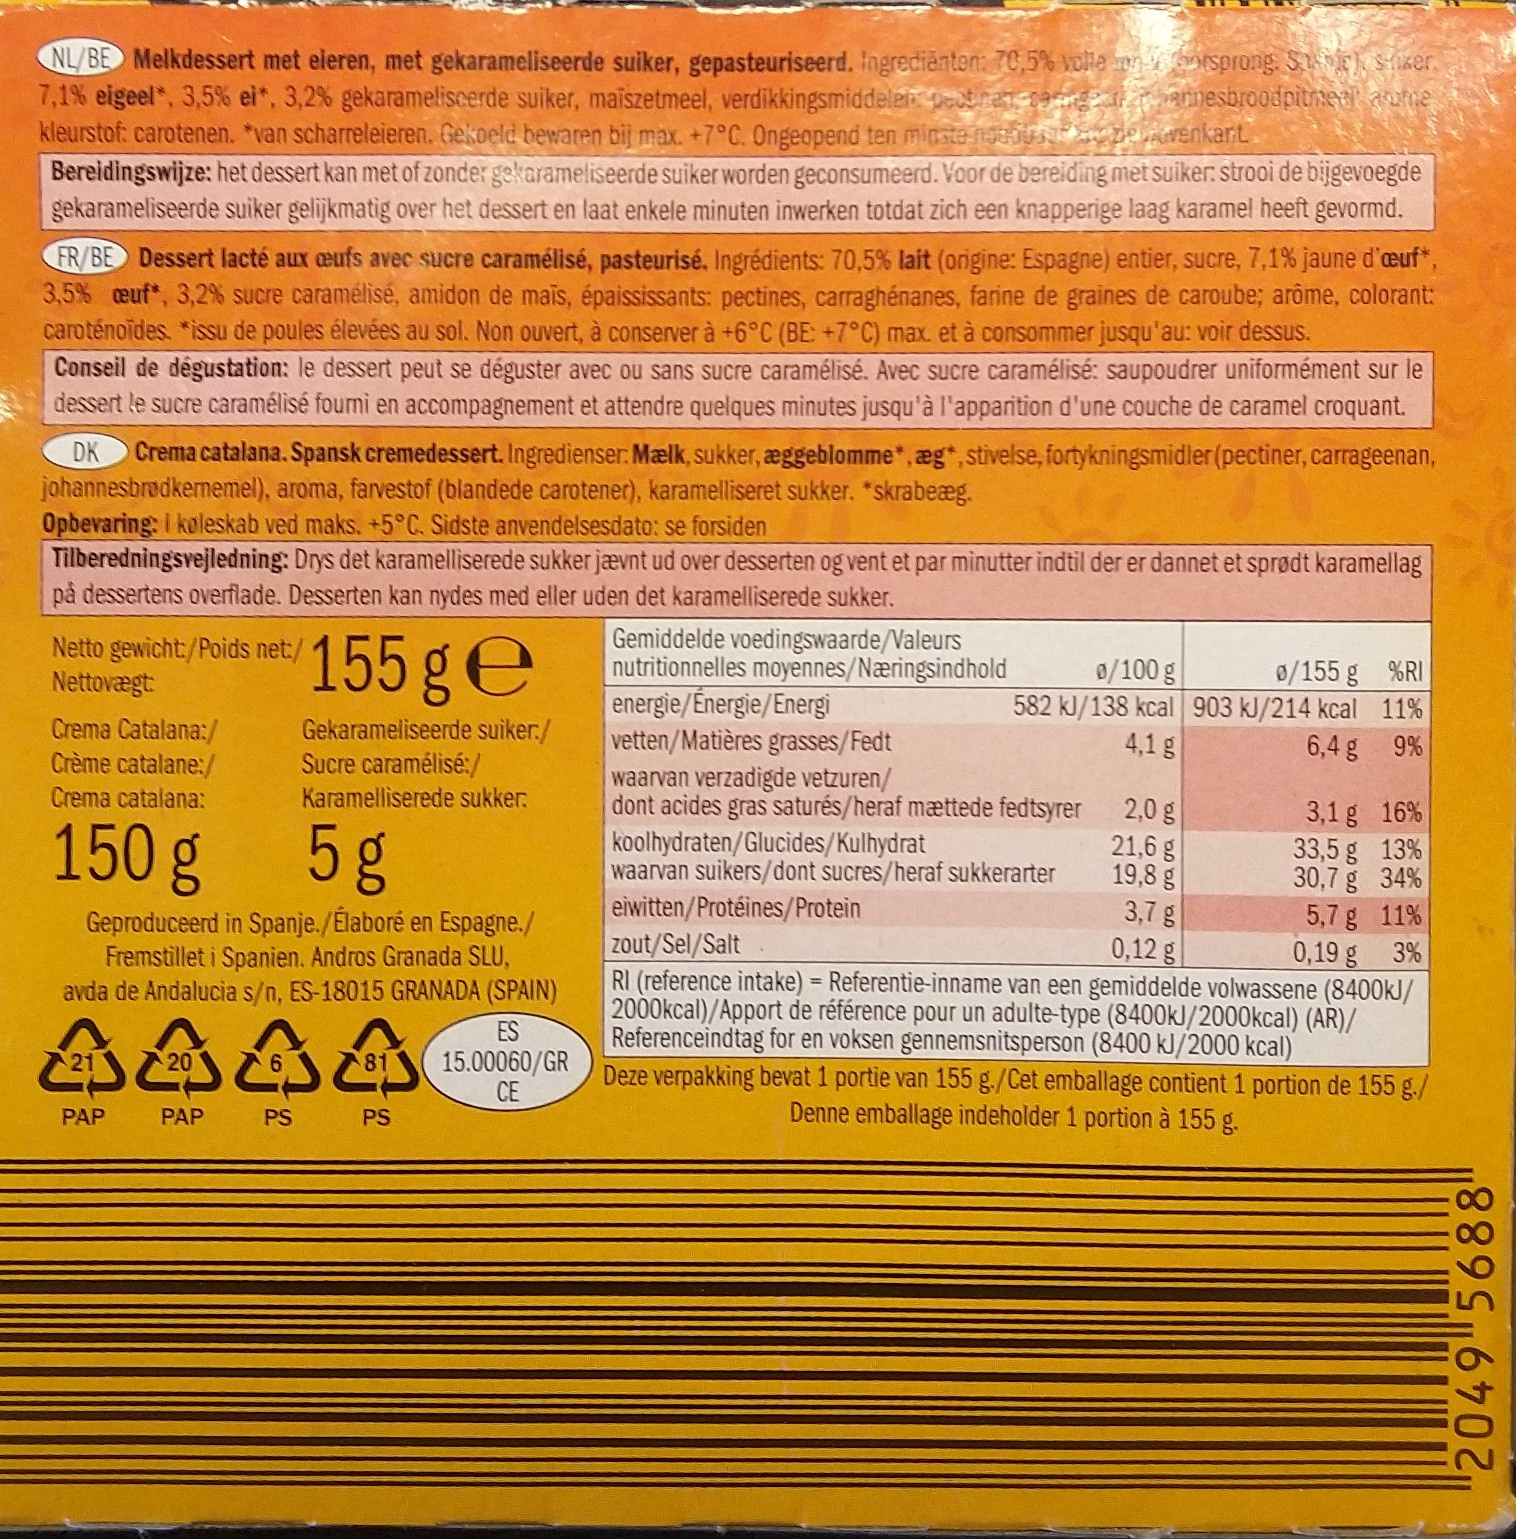column: (609, 624, 1177, 962), (1190, 631, 1362, 964), (1377, 631, 1424, 964)
table: (601, 615, 1438, 971)
